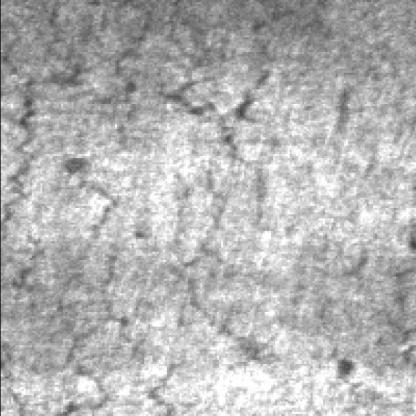crazing: (2, 144, 254, 406), (154, 8, 276, 240), (0, 6, 75, 312)
